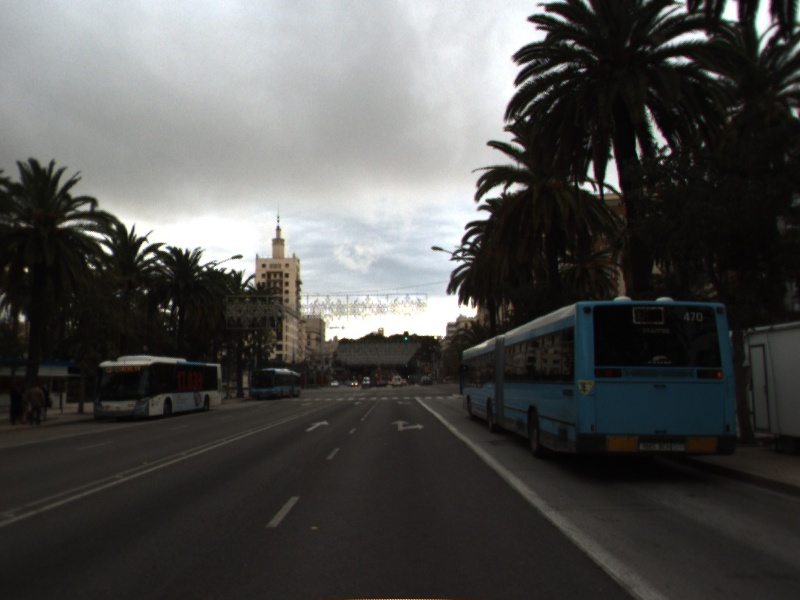STRAIGHT: (303, 418, 331, 434)
STRAIGHT_RIGHT: (388, 418, 427, 433)
